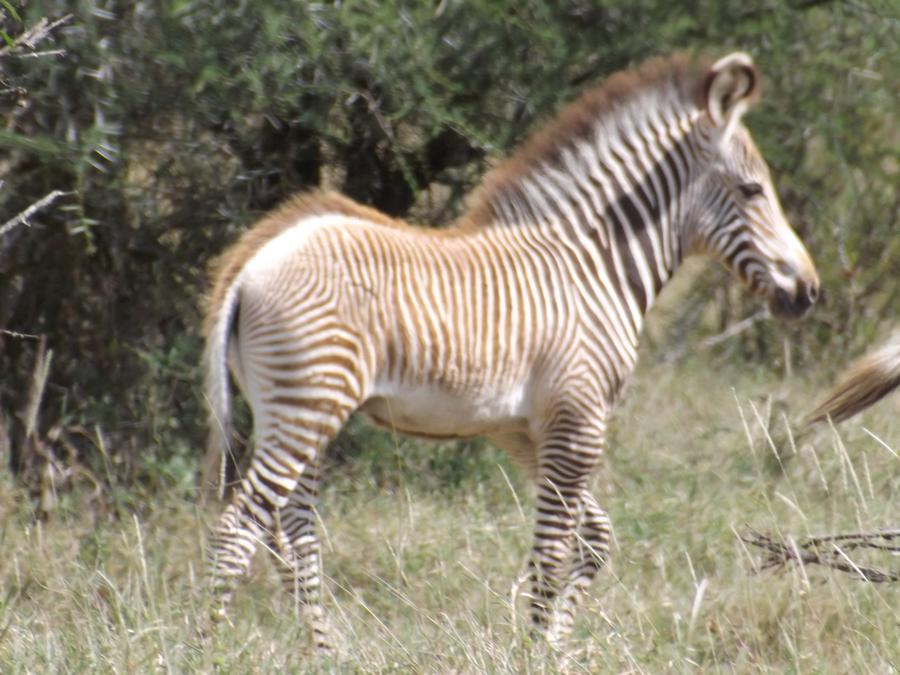zebra_grevys: (206, 173, 615, 440)
